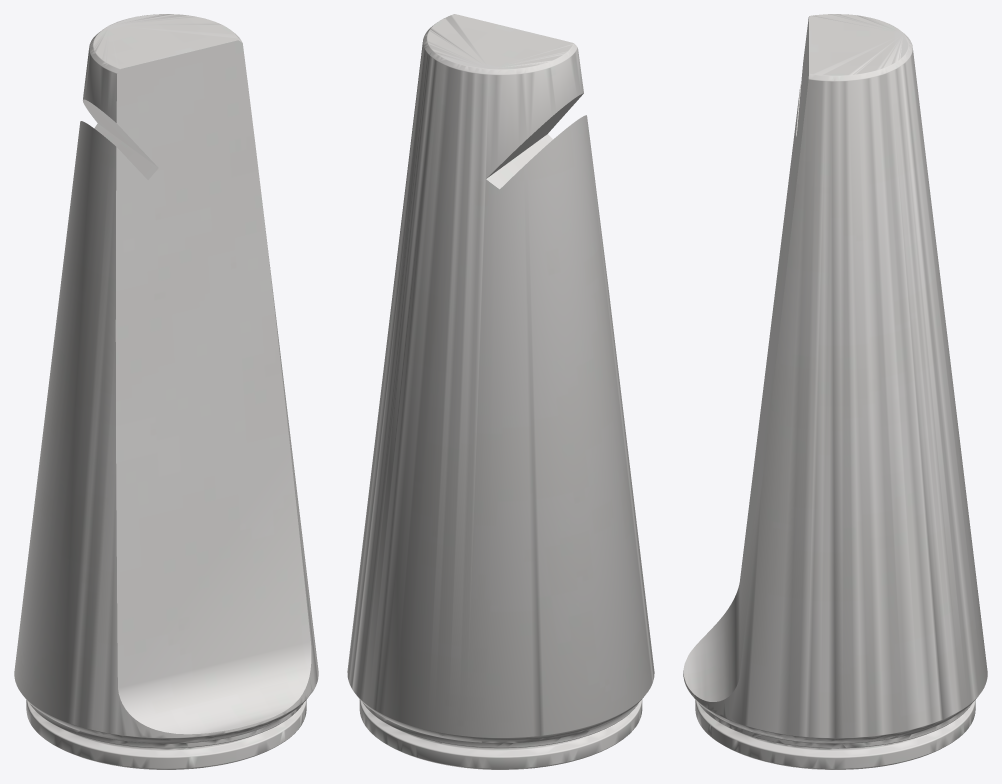
File: bishop-white.glb
3 views of the same model, side by side, from view 1: azimuth 30°, elevation 25°; view 2: azimuth 150°, elevation 25°; view 3: azimuth 270°, elevation 25° (orthographic).
Visible parts, largest first — view 1: 03_strelec_bila; view 2: 03_strelec_bila; view 3: 03_strelec_bila.
Boxes of the visible parts, box(x1,y1,x2,y2) form: 03_strelec_bila: box(14, 14, 318, 769); 03_strelec_bila: box(347, 14, 654, 769); 03_strelec_bila: box(683, 14, 987, 769).
Bounding box in the file's own units: 0.562 × 1.36 × 0.5622.
1 material, 1 textured.
